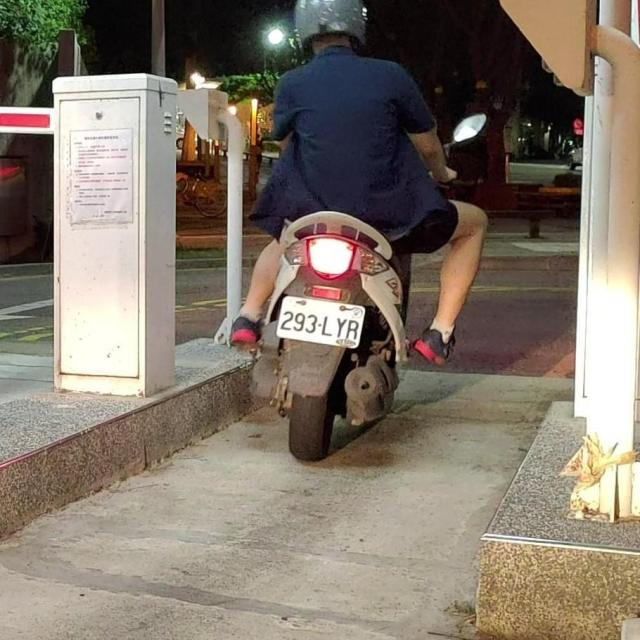W: (274, 294, 367, 351)
